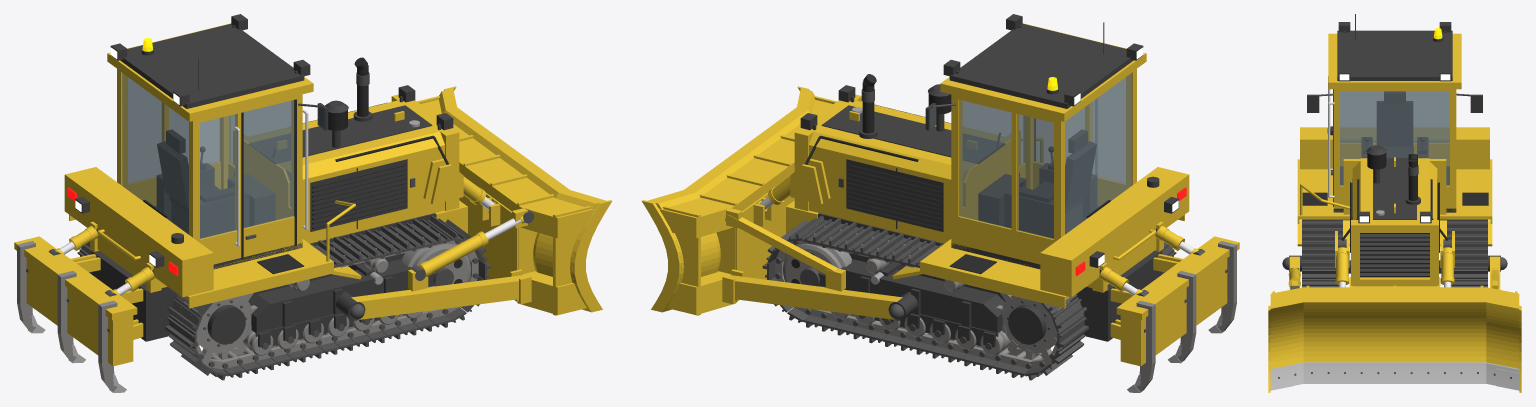
Rendered from crawler_dozer.glb.
The picture shows the model from 3 angles, left to right: view 1: azimuth 30°, elevation 25°; view 2: azimuth 150°, elevation 25°; view 3: azimuth 270°, elevation 25°; orthographic projection. The views are drawn at different scales.
Visible parts, largest first — view 1: cab, body, blade, ripper, undercarriage_right, track_right, push_arms, lift_cylinders; view 2: cab, body, blade, ripper, undercarriage_left, track_left, push_arms, lift_cylinders; view 3: blade, body, cab, track_right, track_left, lift_cylinders, push_arms.
Part boxes in pixels (<box>): cab: <box>107,14,328,269</box>; body: <box>64,57,467,308</box>; blade: <box>417,86,612,315</box>; ripper: <box>14,221,175,392</box>; undercarriage_right: <box>197,243,470,359</box>; track_right: <box>165,215,491,380</box>; push_arms: <box>336,208,534,320</box>; lift_cylinders: <box>303,102,496,212</box>; cab: <box>925,14,1146,269</box>; body: <box>786,74,1189,308</box>; blade: <box>641,86,836,315</box>; ripper: <box>1078,221,1239,392</box>; undercarriage_left: <box>783,243,1056,359</box>; track_left: <box>762,215,1088,380</box>; push_arms: <box>725,214,917,320</box>; lift_cylinders: <box>757,104,950,212</box>; blade: <box>1268,280,1521,392</box>; body: <box>1297,126,1492,287</box>; cab: <box>1307,14,1482,214</box>; track_right: <box>1302,219,1342,287</box>; track_left: <box>1447,219,1487,287</box>; lift_cylinders: <box>1335,179,1454,287</box>; push_arms: <box>1282,255,1507,289</box>.
Bounding box in the file's own units: 6.06 × 3.64 × 3.46.
